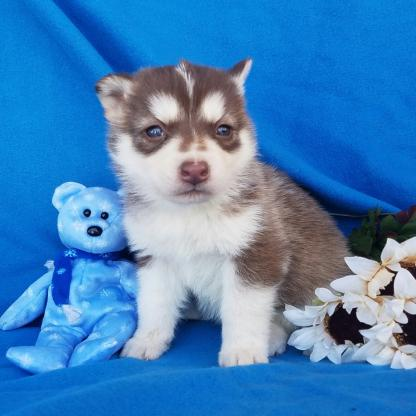husky: (96, 57, 346, 367)
